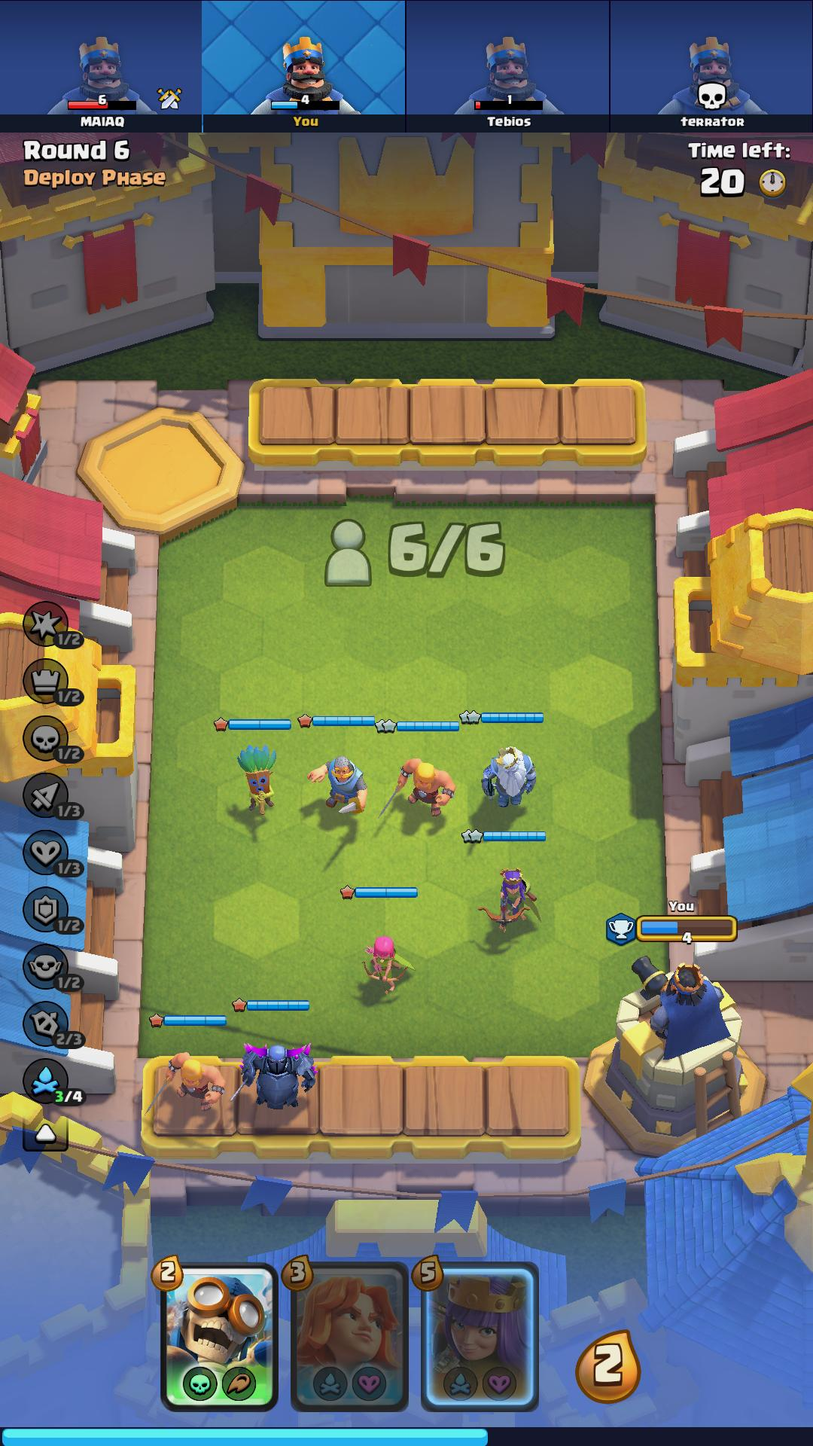archer: (350, 926, 424, 1017)
barbarian: (151, 1036, 230, 1126), (384, 747, 460, 820)
dart: (226, 738, 284, 827)
ghost: (479, 736, 538, 811)
hand-bomber: (167, 1269, 274, 1411)
hand-queen: (425, 1267, 536, 1410)
hand-valkyrie: (294, 1265, 408, 1411)
knight: (305, 743, 374, 827)
pekka: (236, 1034, 326, 1120)
queen: (472, 859, 552, 941)
